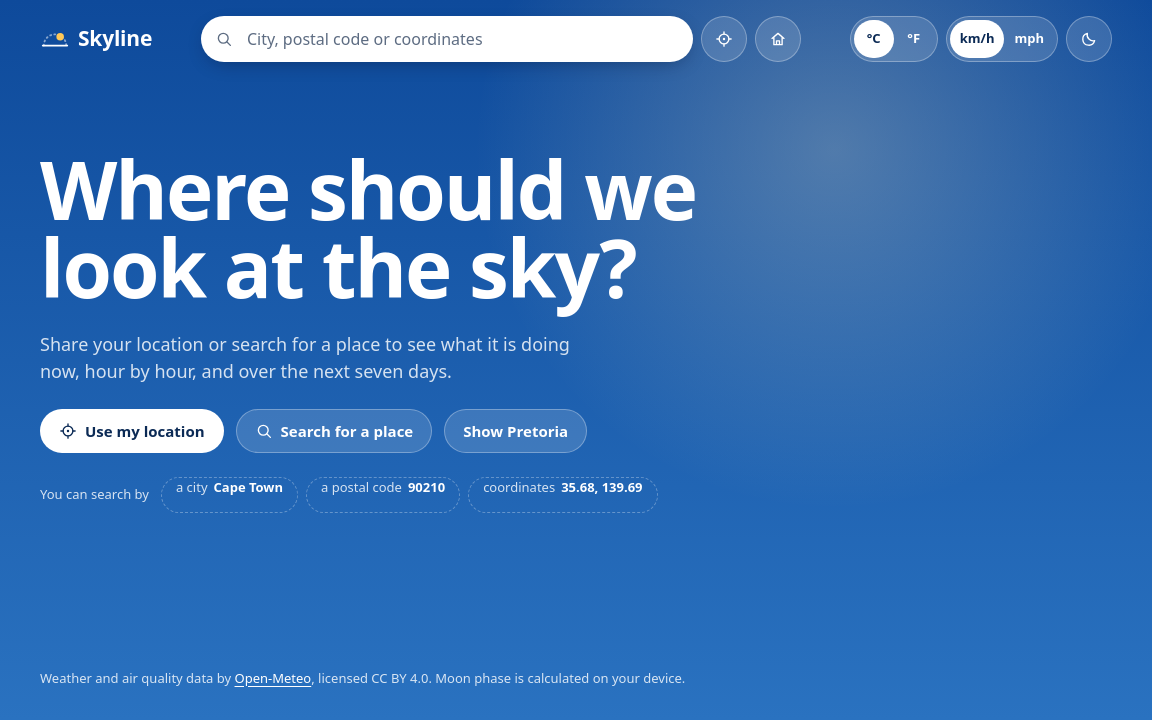
first run › explains what to do when location access is denied
The width and height of the screenshot is (1152, 720).
Click the button "Use my location" at (132,431), box [40, 409, 224, 453]
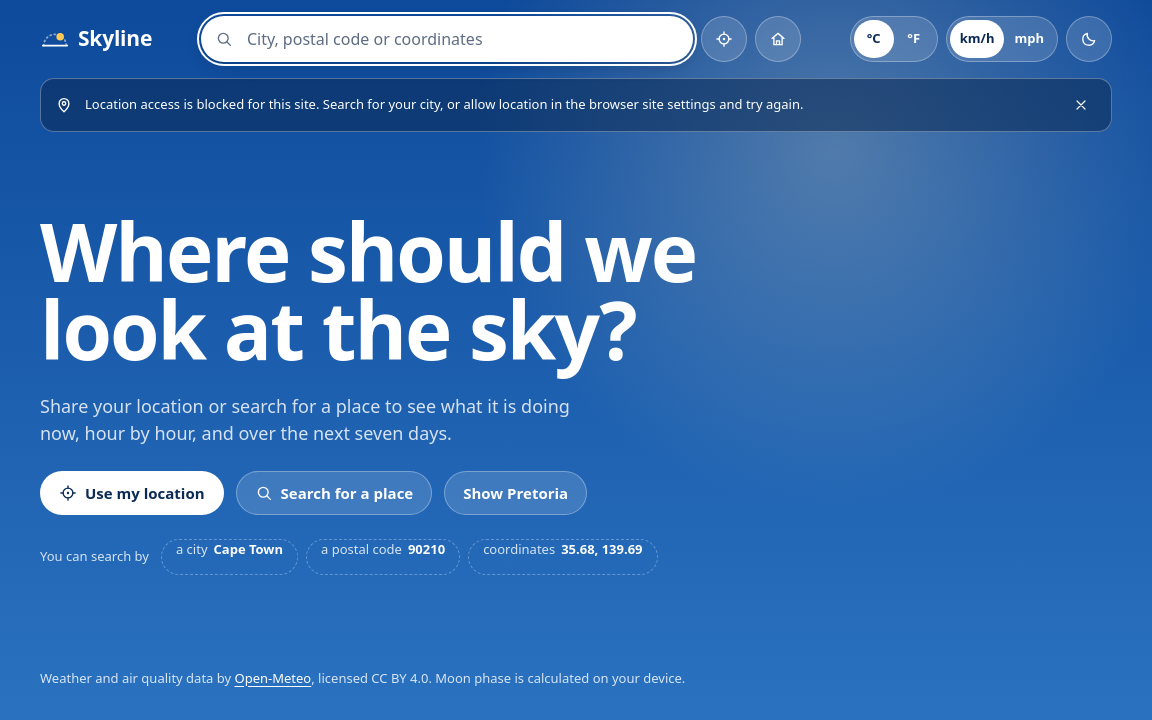
Expected: the text "Location access is blocked for this site" is shown, [85, 95, 803, 113]
